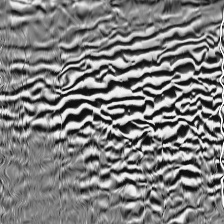cavities: (40, 23, 224, 187)
